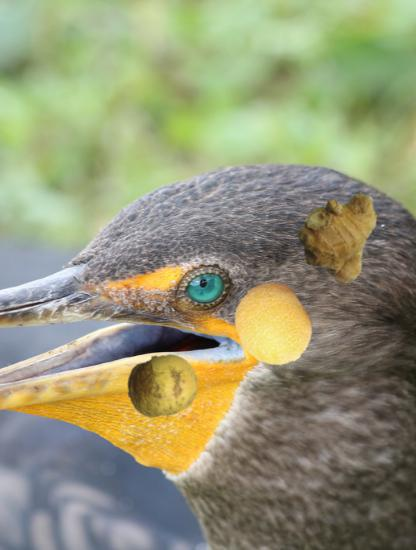Apple: (127, 351, 199, 423)
Cantaloupe: (229, 284, 314, 369)
Ginger: (299, 191, 390, 282)
